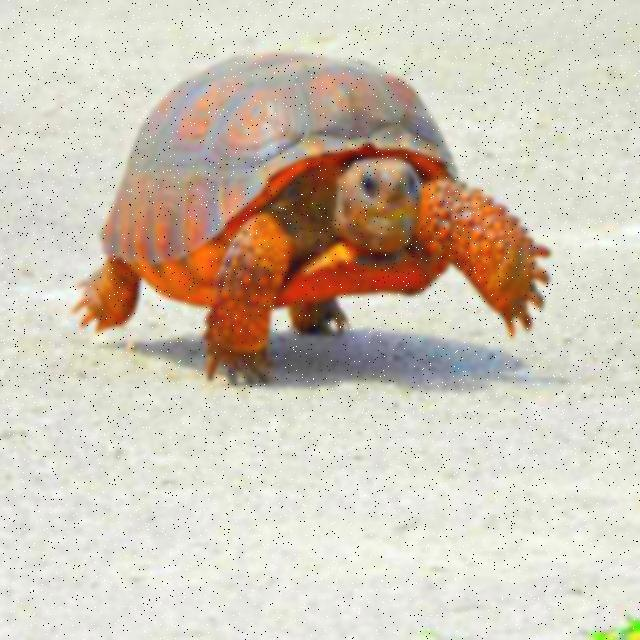tortoise: (64, 38, 566, 398)
